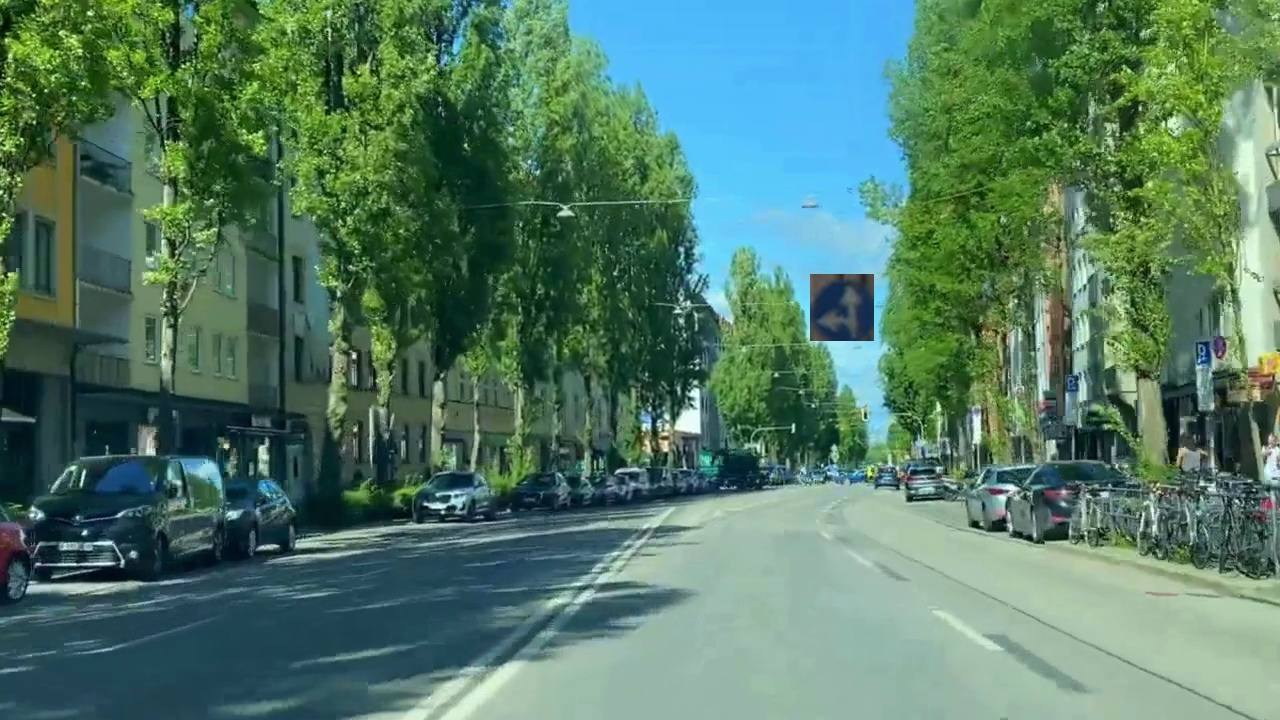Straight/left: (810, 274, 874, 341)
